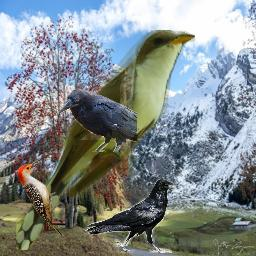Crow: (85, 179, 177, 253), (58, 87, 137, 152)
Cuckoo: (16, 30, 195, 250)
Woodpecker: (17, 160, 64, 238)
